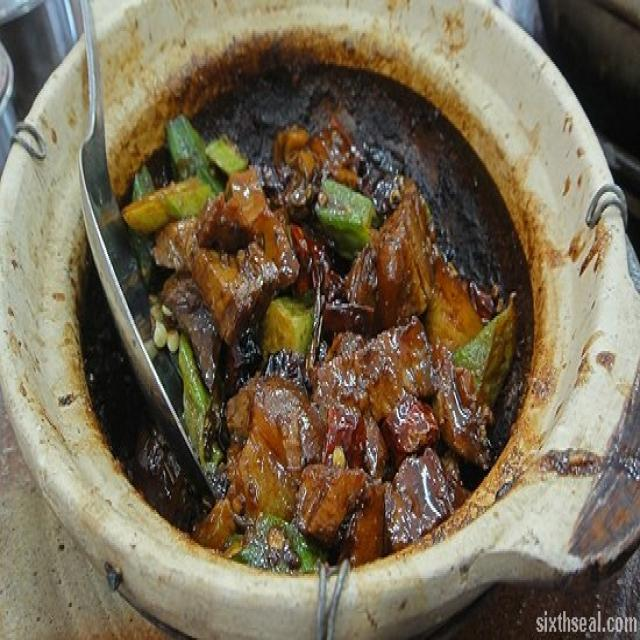汤锅炖物: (29, 12, 627, 607)
